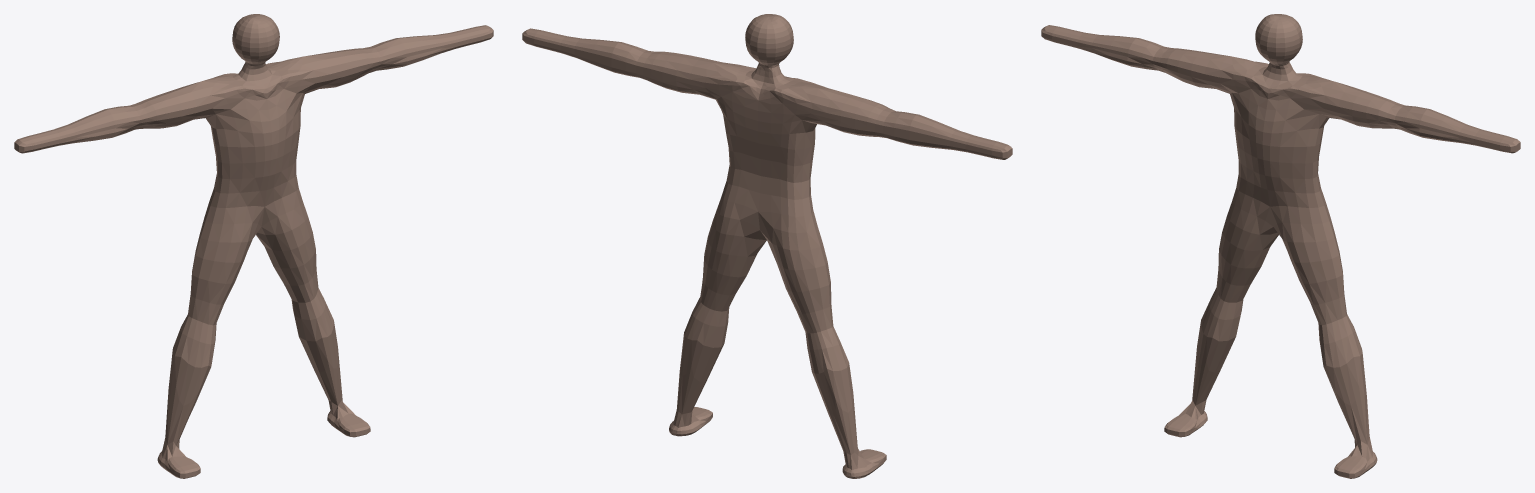
File: trial.obj
3 views of the same model, side by side, from view 1: azimuth 30°, elevation 25°; view 2: azimuth 150°, elevation 25°; view 3: azimuth 330°, elevation 25° (orthographic). The views are drawn at different scales.
Parts seen in each view (by area): view 1: Cube; view 2: Cube; view 3: Cube.
Boxes of the visible parts, x1,y1,x2,y2 form: Cube: (14,14,493,478); Cube: (522,14,1012,478); Cube: (1041,14,1520,478).
Size of the model in its own units: 17.67 by 15.2 by 2.28.
